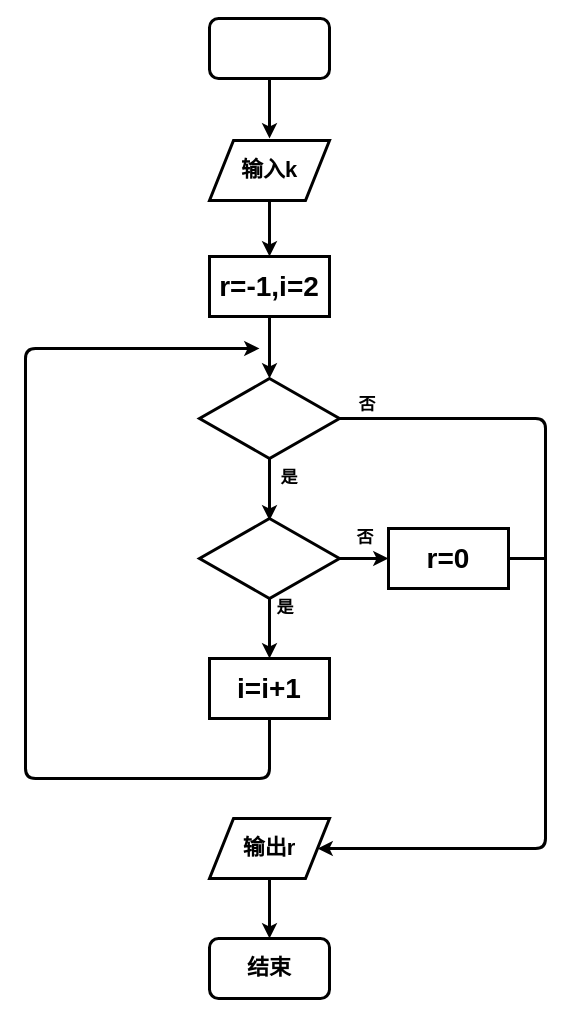
The diagram is 572 pixels wide and 1017 high, and some of its shapes have lost their labels. Each missing label, with the centre of its shape:
i<=开方(k): the point at 269,418
i整除k ?: the point at 269,558
开始: the point at 269,48
